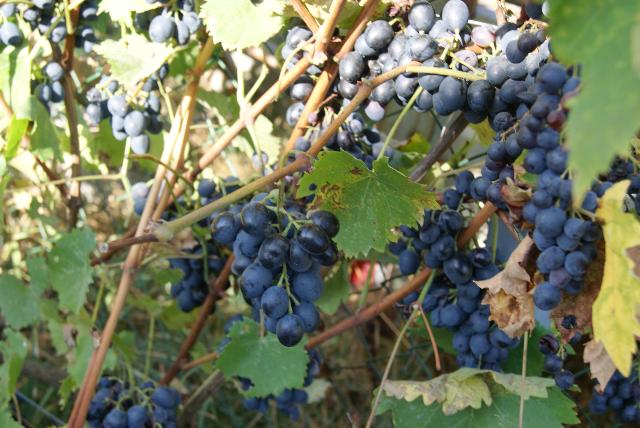grapes: (489, 61, 602, 310), (320, 0, 509, 129), (211, 194, 339, 346), (424, 248, 520, 371), (86, 376, 181, 428)
